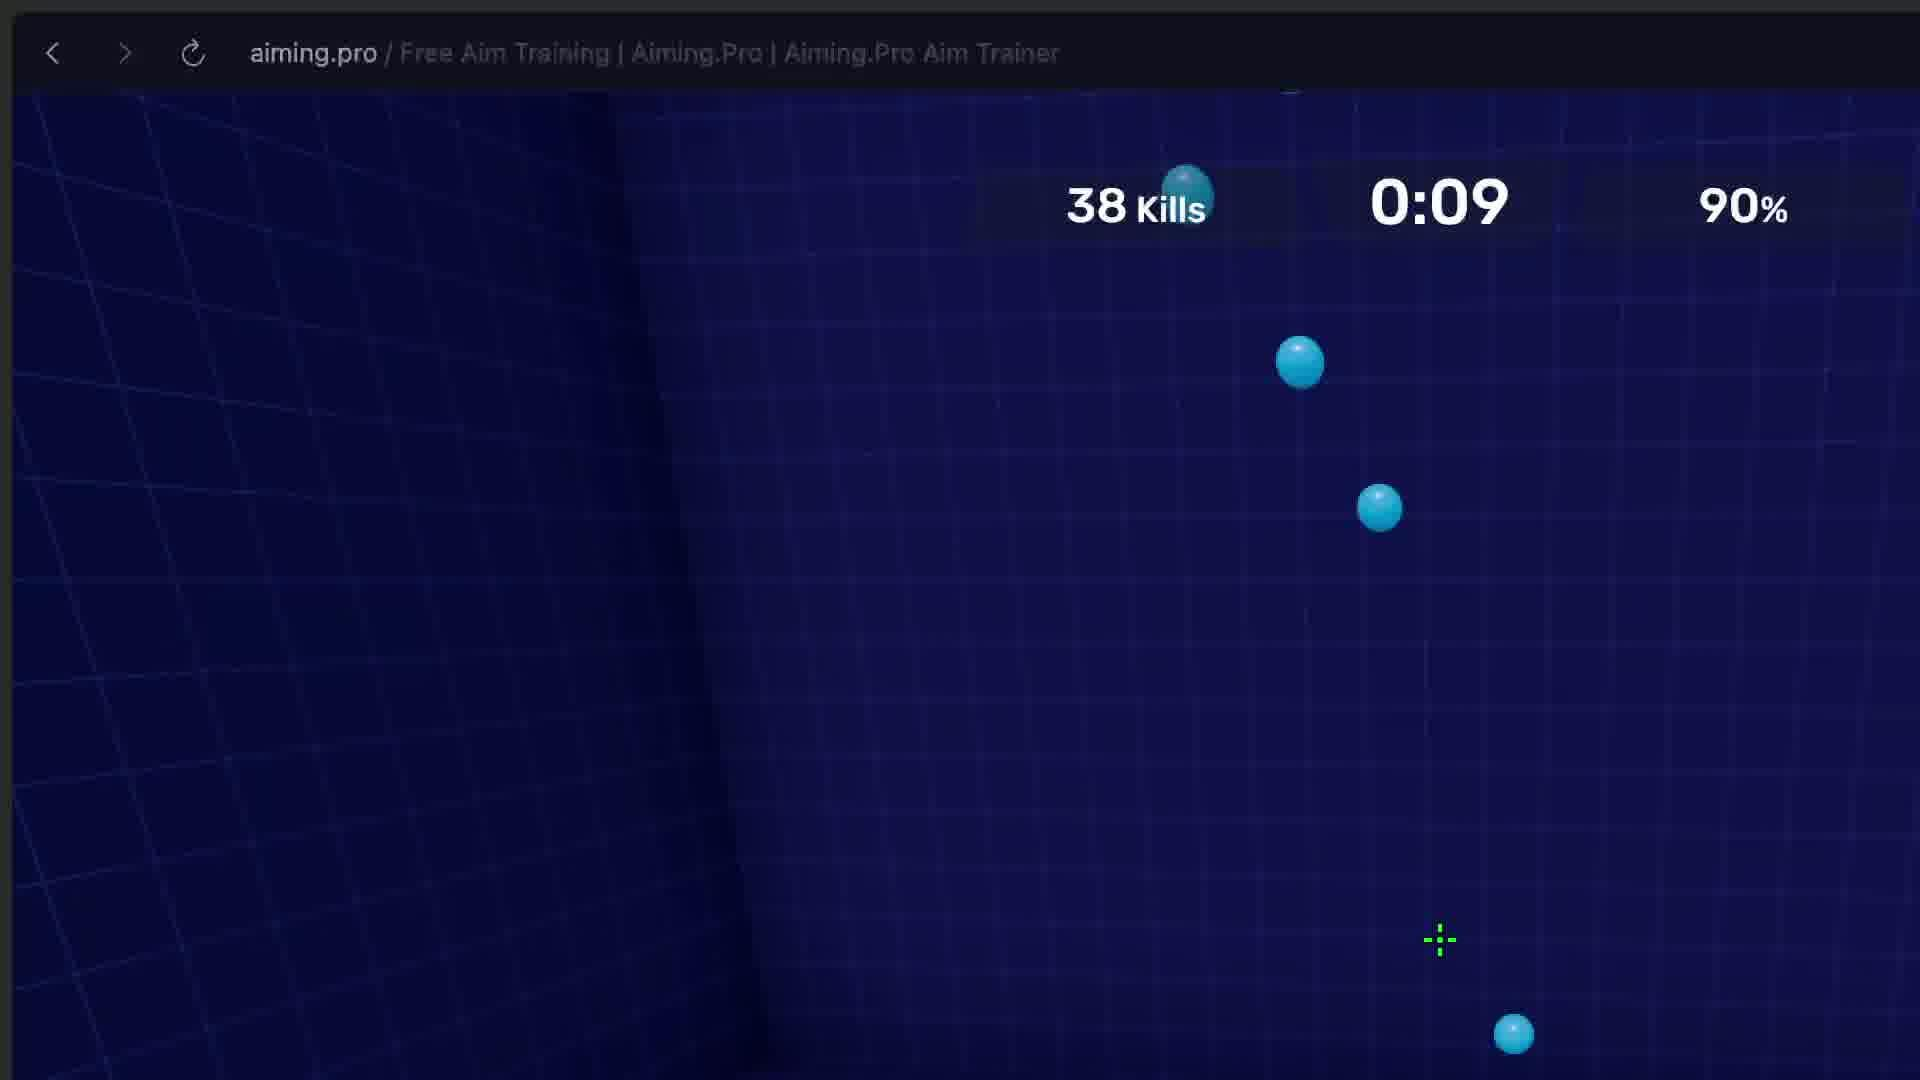target: (1275, 335, 1325, 389), (1357, 484, 1403, 533), (1494, 1014, 1535, 1054)
